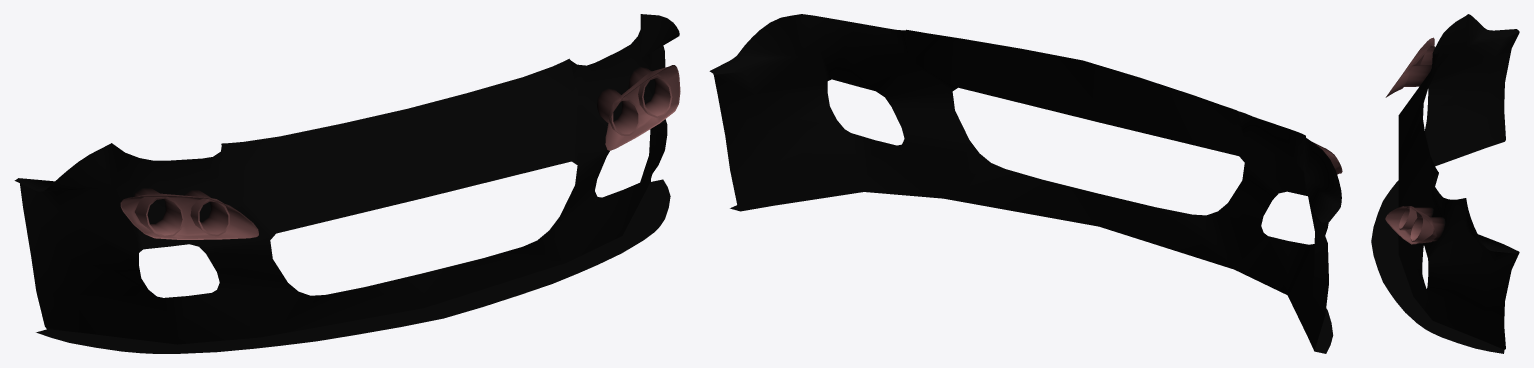
Rendered from RX7_FB03_Trim.fbx.
3 views of the same model, side by side, from view 1: azimuth 30°, elevation 25°; view 2: azimuth 150°, elevation 25°; view 3: azimuth 270°, elevation 25° (orthographic). The views are drawn at different scales.
Parts seen in each view (by area): view 1: RX7_FB03_Trim; view 2: RX7_FB03_Trim; view 3: RX7_FB03_Trim.
Part boxes in pixels (left/top/right/bottom): RX7_FB03_Trim: left=14, top=14, right=680, bottom=353; RX7_FB03_Trim: left=709, top=14, right=1342, bottom=353; RX7_FB03_Trim: left=1371, top=14, right=1519, bottom=353.
Size of the model in its own units: 171 by 49.52 by 47.93.
